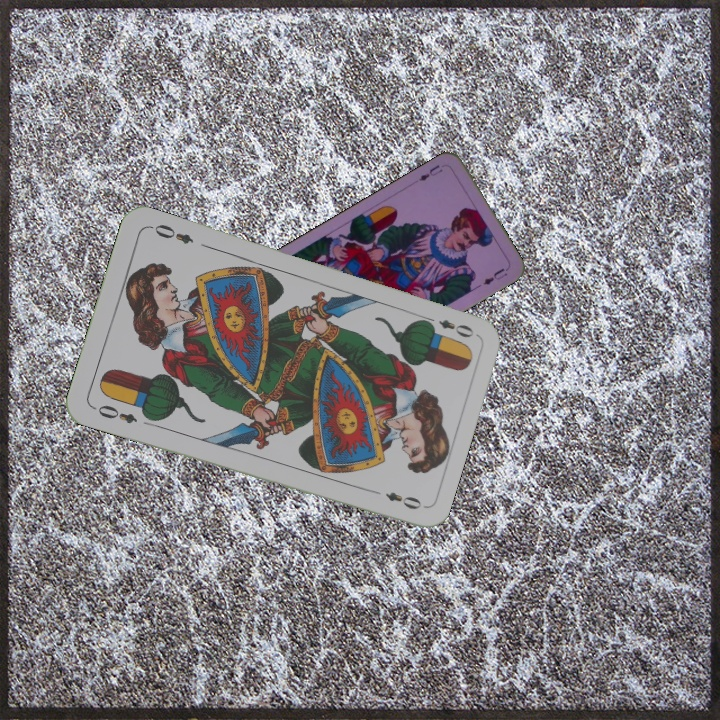EO: (420, 312, 477, 340), (89, 401, 140, 427)
EU: (415, 161, 445, 184)
